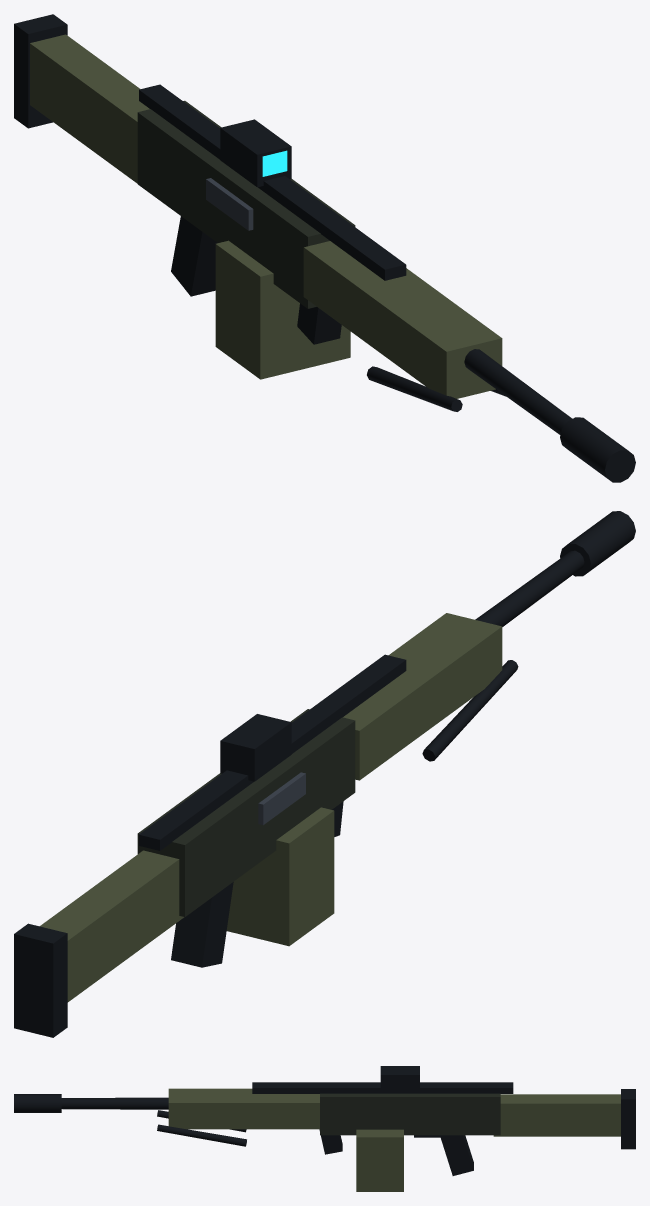
3 renders of one model, top to bottom at view 1: azimuth 30°, elevation 25°; view 2: azimuth 150°, elevation 25°; view 3: azimuth 270°, elevation 25°, orthographic. The views are drawn at different scales.
Parts seen in each view (by area): view 1: Weapon_m249; view 2: Weapon_m249; view 3: Weapon_m249.
Part boxes in pixels (bbox=[...]): Weapon_m249: bbox=[14, 14, 635, 482]; Weapon_m249: bbox=[14, 511, 635, 1037]; Weapon_m249: bbox=[14, 1066, 635, 1191].
Size of the model in its own units: 0.11 by 0.237 by 1.24.
